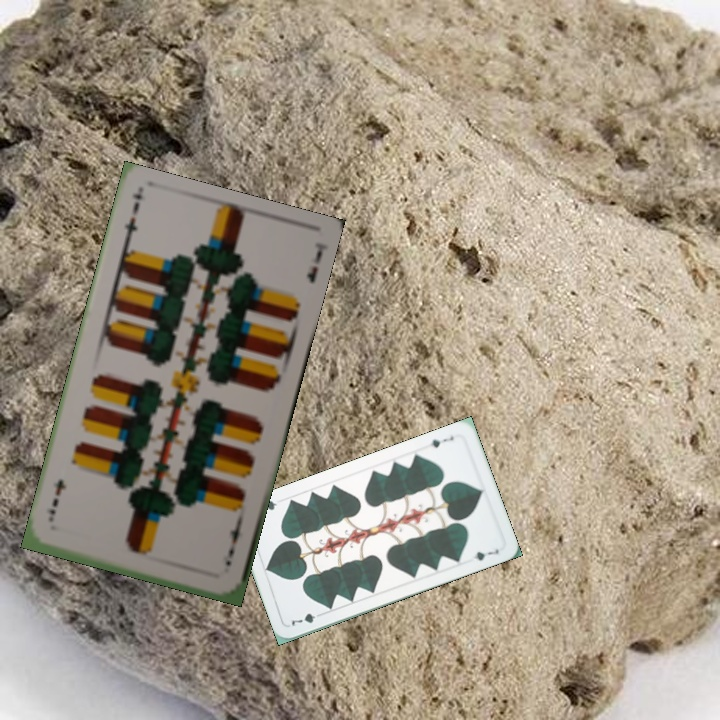E7: (221, 517, 244, 569), (120, 198, 142, 249)
G7: (287, 609, 326, 629), (426, 432, 456, 450)
